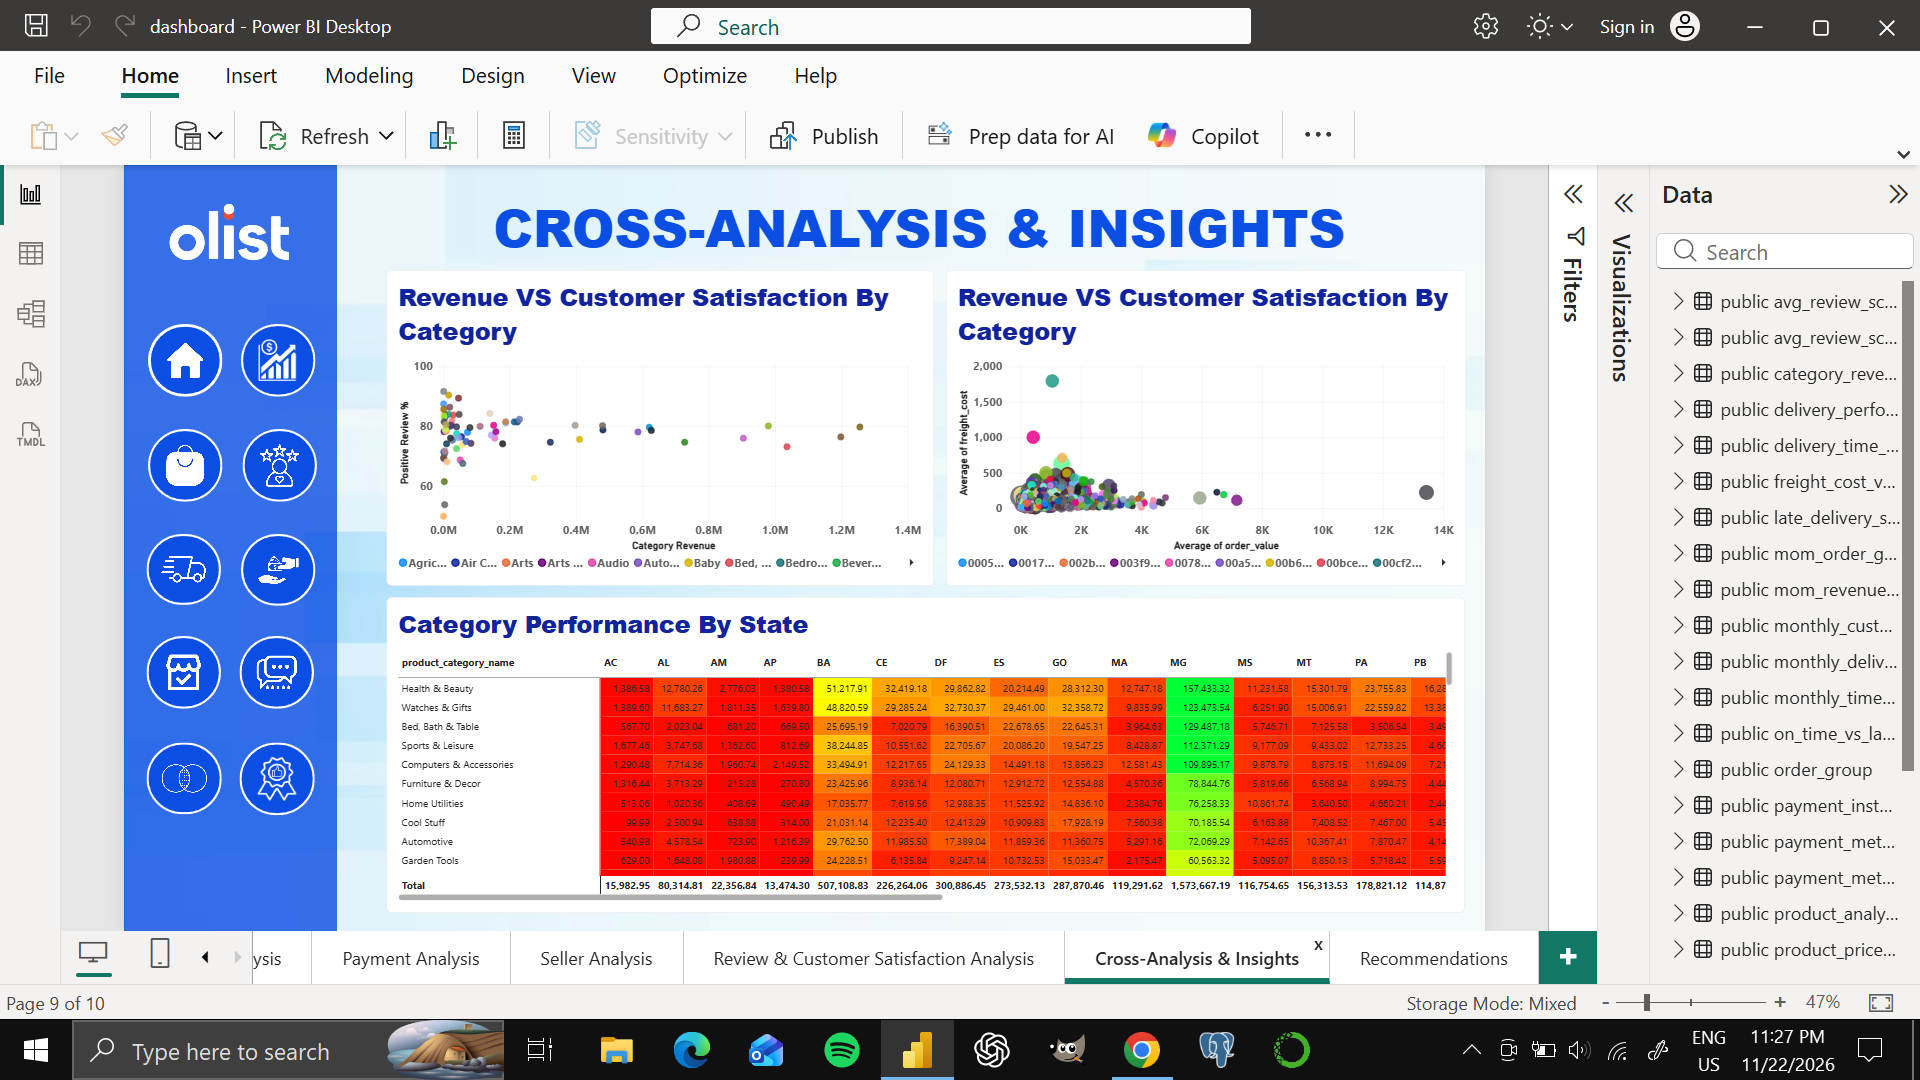

Layout of this report page (visuals, bound fields, positions):
{"tool":"powerbi","page":{"name":"Cross-Analysis & Insights","canvas":[1920,1080],"ordinal":8},"visuals":[{"type":"shape","box":[0,0,300.1,1080.8],"z":0},{"type":"image","box":[25.8,53.9,246.2,93.8],"z":1000},{"type":"actionButton","box":[33.8,223.8,105,102.5],"z":2000},{"type":"actionButton","box":[165,223.8,105,102.5],"z":3000},{"type":"actionButton","box":[33.8,371.2,105,102.5],"z":4000},{"type":"actionButton","box":[166.2,371.2,105,102.5],"z":5000},{"type":"actionButton","box":[32.5,520,105,100],"z":6000},{"type":"actionButton","box":[165,520,105,101.2],"z":7000},{"type":"actionButton","box":[31.2,665,105,102.5],"z":8000},{"type":"actionButton","box":[163.8,665,105,102.5],"z":9000},{"type":"actionButton","box":[31.2,815,106.2,101.2],"z":10000},{"type":"scatterChart","title":"Revenue VS Customer Satisfaction By Category","fields":{"Series":["public vw_category_revenue_vs_satisfaction.product_category_name"],"X":["public vw_category_revenue_vs_satisfaction.product_revenue"],"Y":["public vw_category_revenue_vs_satisfaction.positive_review_rate_pct"]},"box":[370.2,147.6,772.2,445.2],"z":11000},{"type":"textbox","box":[424.4,35.2,1392.6,112.5],"z":12000},{"type":"actionButton","box":[163.8,815,106.2,102.5],"z":13000},{"type":"pivotTable","title":"Category Performance By State","fields":{"Columns":["public category_revenue_by_state.customer_state"],"Rows":["public category_revenue_by_state.product_category_name"],"Values":["Sum(public category_revenue_by_state.product_revenue)"]},"box":[370,610,1520,445],"z":14000},{"type":"scatterChart","title":"Revenue VS Customer Satisfaction By Category","fields":{"Series":["public freight_cost_vs_order_value.order_id"],"Size":["Sum(public freight_cost_vs_order_value.item_count)"],"X":["Avg(public freight_cost_vs_order_value.order_value)"],"Y":["Avg(public freight_cost_vs_order_value.freight_cost)"]},"box":[1158.4,147.6,733.6,445.2],"z":15000}]}

Visuals, with their boxes on the page's 1920x1080 design canvas (x1, y1, x2, y2). These are canvas units, not pixel positions in the 1920x1080 screenshot, which may show the page scaled, cropped or inside an application window:
shape: box(0, 0, 300, 1081)
image: box(26, 54, 272, 148)
actionButton: box(34, 224, 139, 326)
actionButton: box(165, 224, 270, 326)
actionButton: box(34, 371, 139, 474)
actionButton: box(166, 371, 271, 474)
actionButton: box(32, 520, 138, 620)
actionButton: box(165, 520, 270, 621)
actionButton: box(31, 665, 136, 768)
actionButton: box(164, 665, 269, 768)
actionButton: box(31, 815, 137, 916)
"Revenue VS Customer Satisfaction By Category" scatterChart: box(370, 148, 1142, 593)
textbox: box(424, 35, 1817, 148)
actionButton: box(164, 815, 270, 918)
"Category Performance By State" pivotTable: box(370, 610, 1890, 1055)
"Revenue VS Customer Satisfaction By Category" scatterChart: box(1158, 148, 1892, 593)
